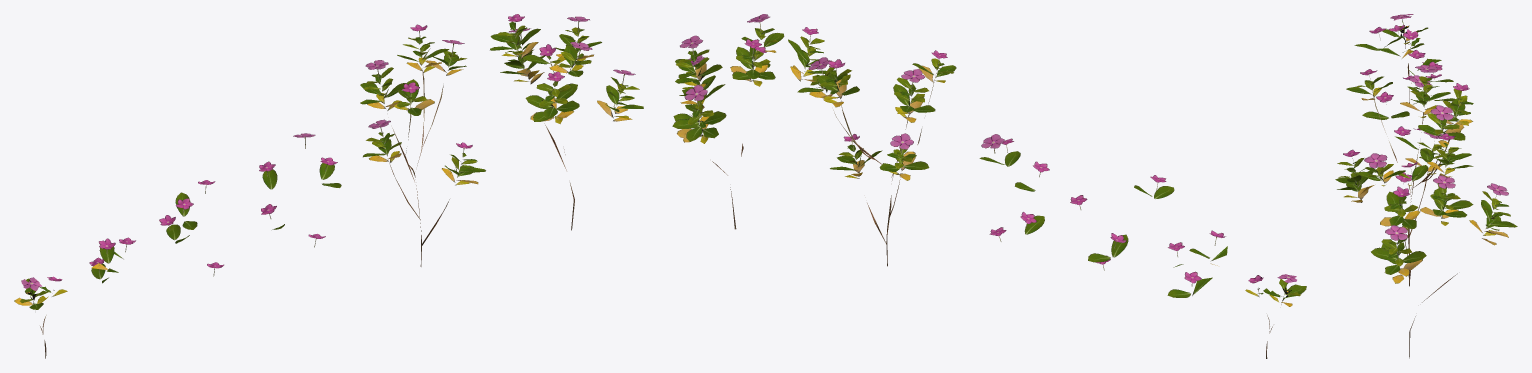
File: periwinkle_plant_lod1.glb
3 renders of one model, left to right at view 1: azimuth 30°, elevation 25°; view 2: azimuth 150°, elevation 25°; view 3: azimuth 270°, elevation 25°, orthographic. The views are drawn at different scales.
Visible parts, largest first — view 1: periwinkle_plant_01_LOD0, periwinkle_plant_02_LOD0, periwinkle_plant_03_LOD0, periwinkle_plant_04_LOD0, periwinkle_plant_06_LOD0, periwinkle_plant_05_LOD0; view 2: periwinkle_plant_01_LOD0, periwinkle_plant_02_LOD0, periwinkle_plant_03_LOD0, periwinkle_plant_04_LOD0, periwinkle_plant_05_LOD0, periwinkle_plant_06_LOD0; view 3: periwinkle_plant_01_LOD0, periwinkle_plant_02_LOD0, periwinkle_plant_03_LOD0, periwinkle_plant_04_LOD0, periwinkle_plant_06_LOD0, periwinkle_plant_05_LOD0.
Part boxes in pixels (x1,y1,x2,y2): periwinkle_plant_01_LOD0: (490,14,643,230); periwinkle_plant_02_LOD0: (360,24,485,266); periwinkle_plant_03_LOD0: (259,133,341,247); periwinkle_plant_04_LOD0: (159,180,223,276); periwinkle_plant_06_LOD0: (14,276,67,358); periwinkle_plant_05_LOD0: (89,237,135,283); periwinkle_plant_01_LOD0: (672,14,831,229); periwinkle_plant_02_LOD0: (797,50,956,266); periwinkle_plant_03_LOD0: (979,134,1049,241); periwinkle_plant_04_LOD0: (1070,175,1174,270); periwinkle_plant_05_LOD0: (1167,230,1227,297); periwinkle_plant_06_LOD0: (1245,274,1306,358); periwinkle_plant_01_LOD0: (1335,133,1517,358); periwinkle_plant_02_LOD0: (1346,65,1473,286); periwinkle_plant_03_LOD0: (1362,75,1431,183); periwinkle_plant_04_LOD0: (1354,27,1455,137); periwinkle_plant_06_LOD0: (1382,14,1428,103); periwinkle_plant_05_LOD0: (1378,25,1453,82).
Bounding box in the file's own units: 1.23 × 0.4107 × 0.3208.
Materials: 1 (1 with a texture image).
